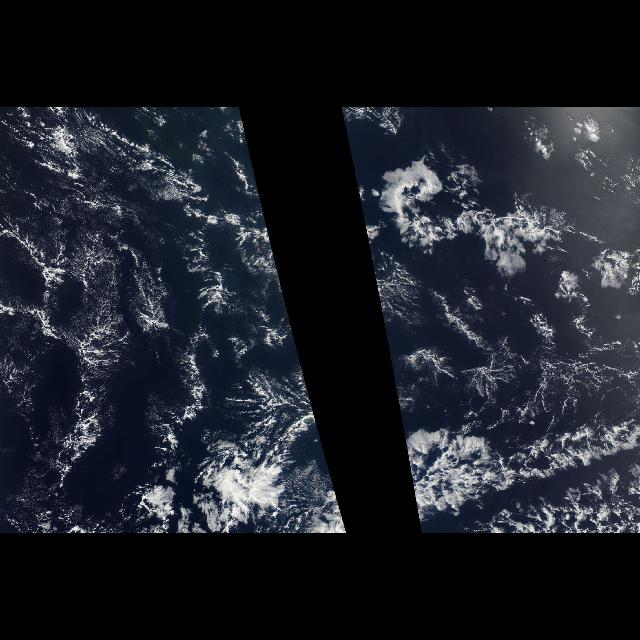Fish: (410, 418, 640, 534), (374, 154, 618, 260)
Sugar: (11, 160, 285, 430), (376, 292, 640, 412)
